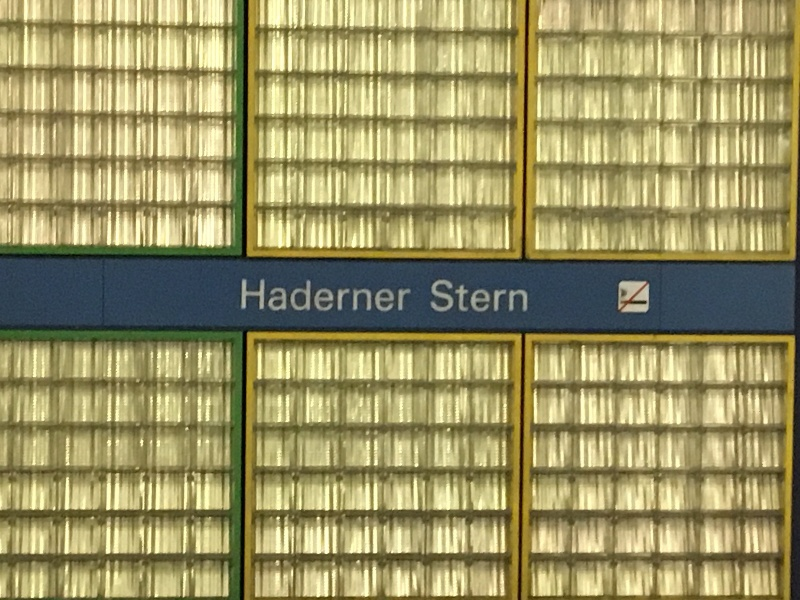text: (513, 276, 529, 315), (433, 276, 448, 315), (449, 276, 464, 315), (465, 276, 480, 315), (481, 276, 496, 315), (497, 276, 512, 315), (241, 278, 256, 313), (257, 278, 272, 313), (273, 278, 288, 313), (289, 278, 304, 313), (305, 278, 320, 313), (321, 278, 336, 313), (337, 278, 352, 313), (353, 278, 368, 313), (369, 278, 384, 313), (385, 278, 400, 313), (401, 278, 414, 313)
